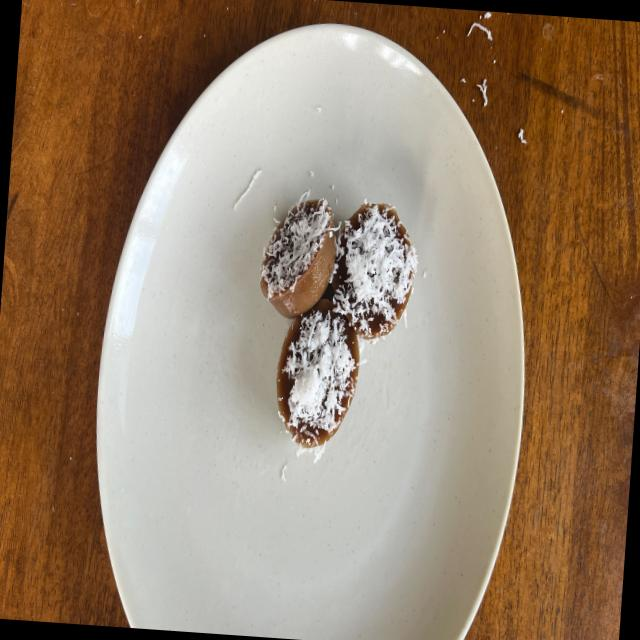Kuih lompang: (276, 298, 359, 449), (331, 203, 417, 339), (260, 190, 336, 318)
